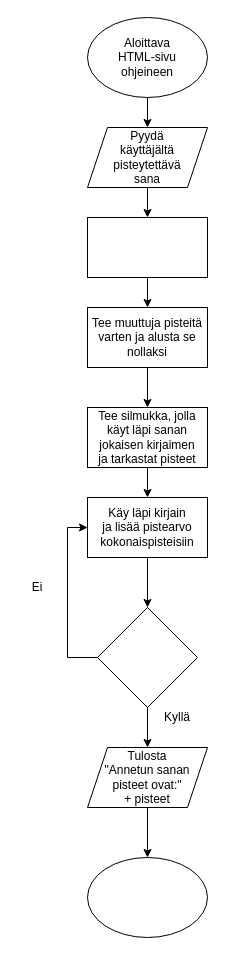
The diagram is 225 pixels wide and 955 high, and some of its shapes have lost their labels. The shapes that lost their labels are listed below. From the top down, each one's box as (x1, y1, x2, y2) in pixels, then its label:
(86, 216, 208, 278): Tee muuttuja sanaa varten ja sijoita sana muuttujaan
(96, 606, 198, 708): Onko sanan viimeinen kirjain?
(86, 856, 208, 938): Loppu
